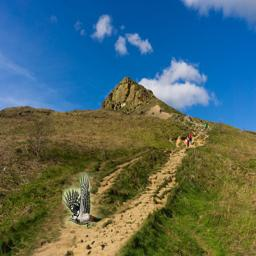Woodpecker: (62, 172, 102, 228)
